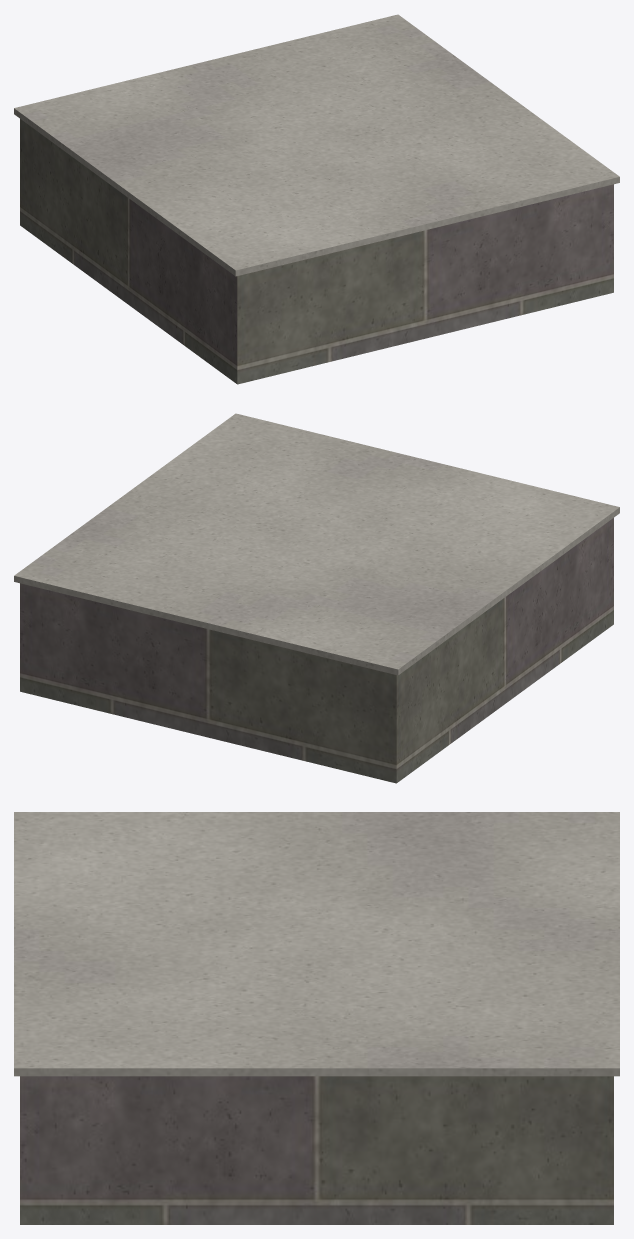
File: floor_concrete_g.glb
3 views of the same model, one above another, from view 1: azimuth 30°, elevation 25°; view 2: azimuth 150°, elevation 25°; view 3: azimuth 270°, elevation 25° (orthographic). The views are drawn at different scales.
Visible parts, largest first — view 1: floor_concrete_g_concrete, floor_concrete_g_plinth; view 2: floor_concrete_g_concrete, floor_concrete_g_plinth; view 3: floor_concrete_g_concrete, floor_concrete_g_plinth.
Boxes of the visible parts, x1,y1,x2,y2 form: floor_concrete_g_concrete: (14, 14, 619, 276); floor_concrete_g_plinth: (20, 119, 613, 384); floor_concrete_g_concrete: (14, 413, 619, 675); floor_concrete_g_plinth: (20, 518, 613, 783); floor_concrete_g_concrete: (14, 812, 619, 1076); floor_concrete_g_plinth: (20, 1076, 613, 1224).
Size of the model in its own units: 2 by 0.58 by 2.
Materials: 2 (2 with a texture image).
